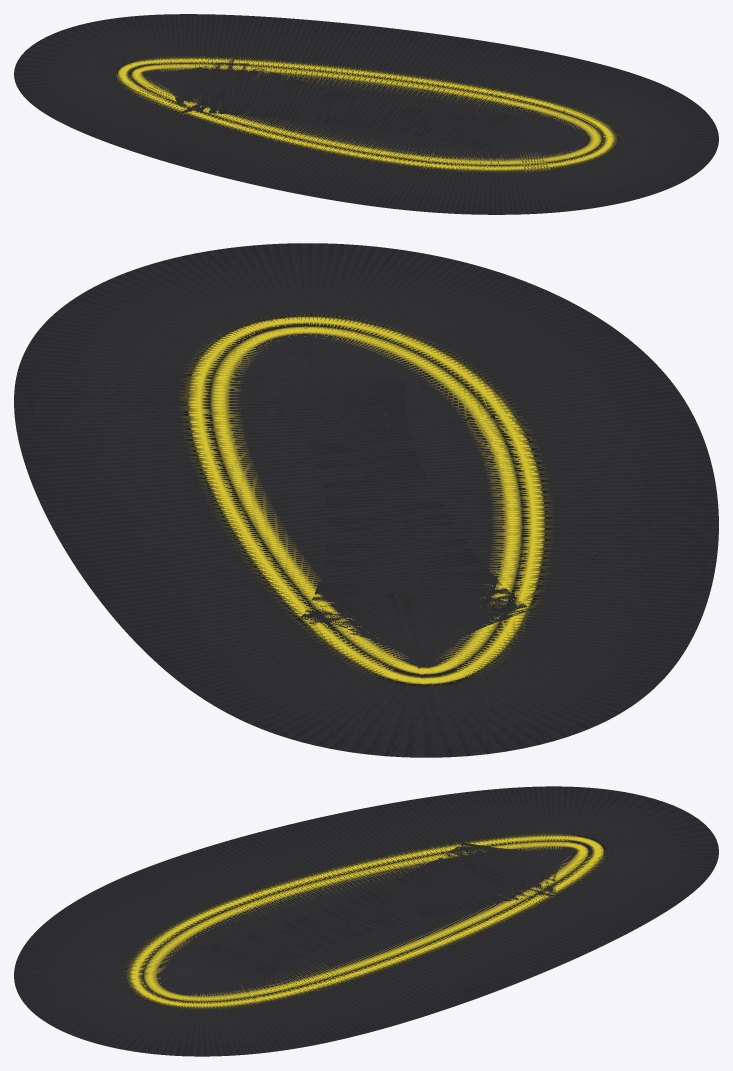
3 renders of one model, top to bottom at view 1: azimuth 30°, elevation 25°; view 2: azimuth 150°, elevation 25°; view 3: azimuth 270°, elevation 25°, orthographic. The views are drawn at different scales.
Parts seen in each view (by area): view 1: road; view 2: road; view 3: road.
Boxes of the visible parts, x1,y1,x2,y2 form: road: (14,14,718,214); road: (14,243,718,757); road: (14,786,718,1056).
Size of the model in its own units: 0.4443 by 0 by 0.49.
